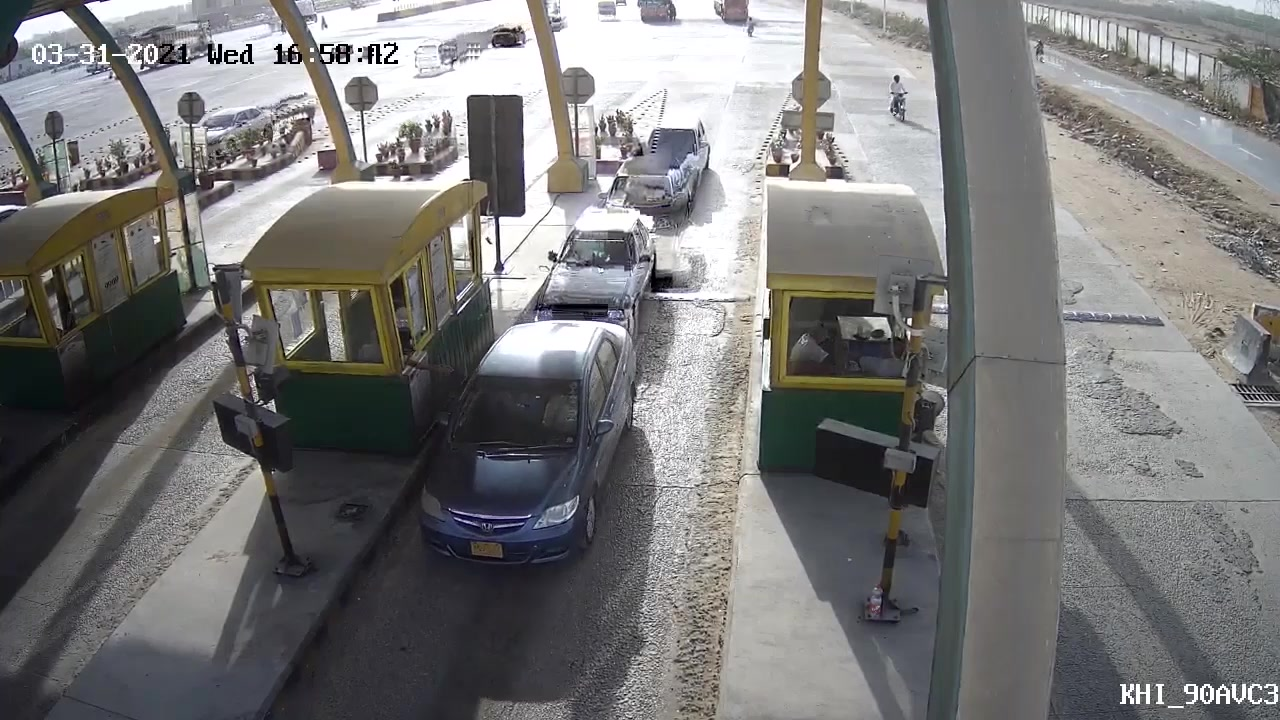F1: (409, 318, 644, 586)
